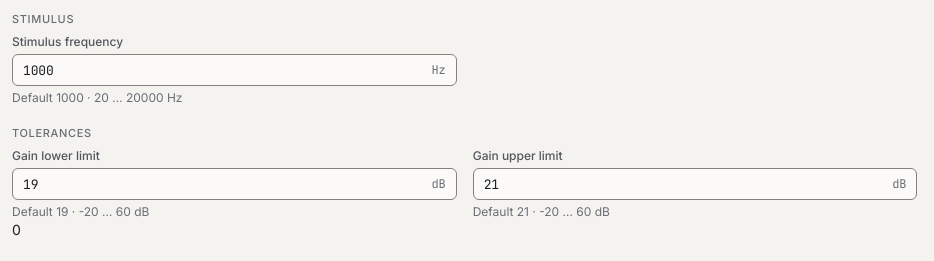
Test: ParameterForm › offers reset-to-default only for modified fields and restores the default
Clear the field labelled "Stimulus frequency" at (222, 70), box left=13, top=55, right=432, bottom=85
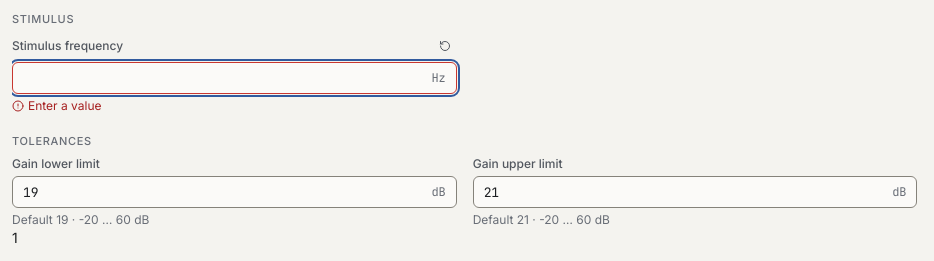
Type "2000" into the field labelled "Stimulus frequency" at (222, 78), box left=13, top=63, right=432, bottom=93
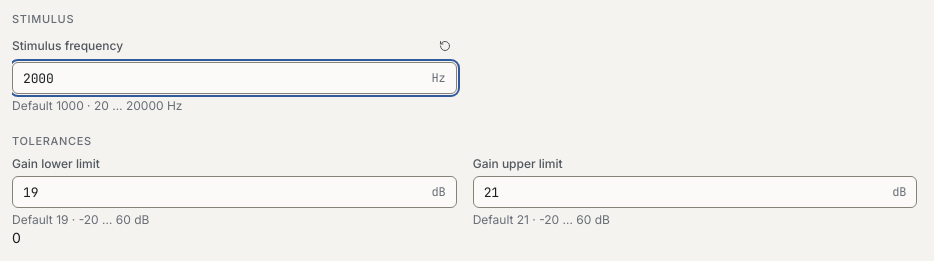
Click the button named "Reset Stimulus frequency to default (1000)" at (445, 46), box left=433, top=34, right=457, bottom=58
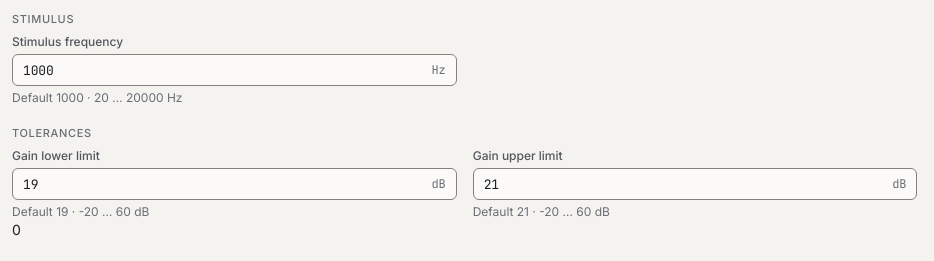
Check: the field labelled "Stimulus frequency" holds "1000", box left=13, top=55, right=432, bottom=85
